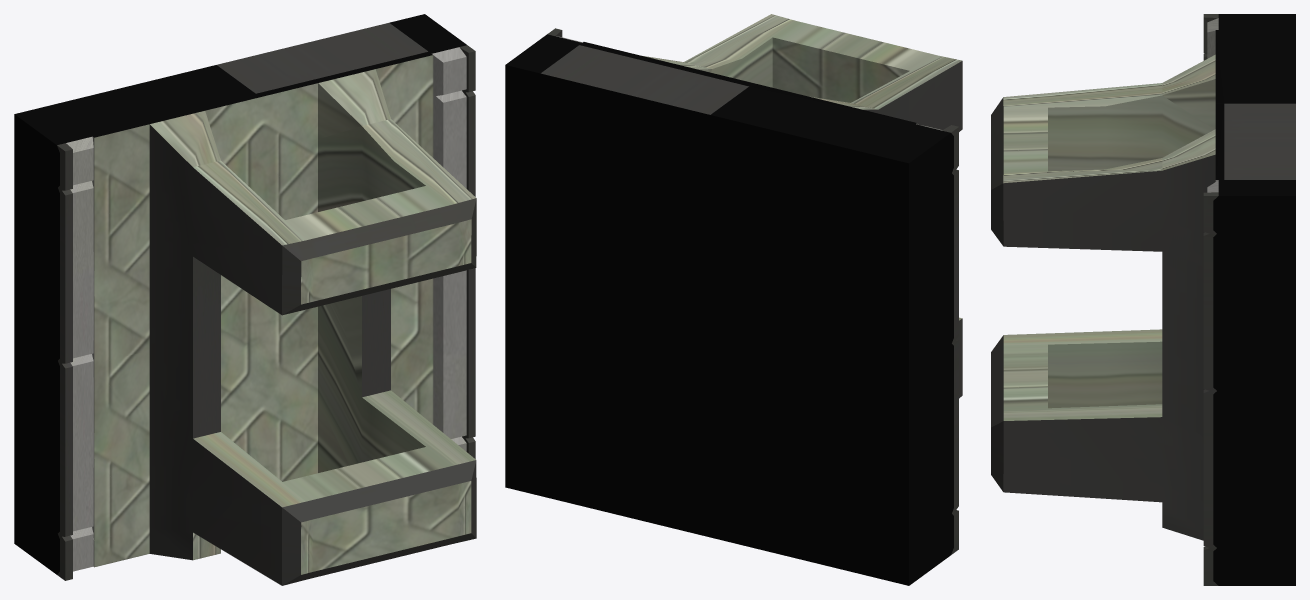
The model's file is backwall2.fbx.
3 views of the same model, side by side, from view 1: azimuth 30°, elevation 25°; view 2: azimuth 150°, elevation 25°; view 3: azimuth 270°, elevation 25° (orthographic). The views are drawn at different scales.
Visible parts, largest first — view 1: BackWall1; view 2: BackWall1; view 3: BackWall1.
Boxes of the visible parts, x1,y1,x2,y2 form: BackWall1: (14,14,476,585); BackWall1: (505,14,962,585); BackWall1: (991,14,1295,585).
Size of the model in its own units: 6 by 6 by 4.25.
